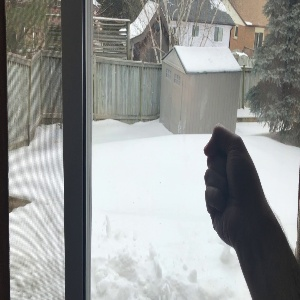hand: (204, 126, 270, 239)
